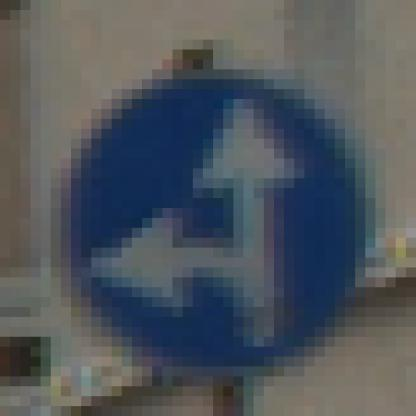Straight or Left: (62, 61, 366, 368)
